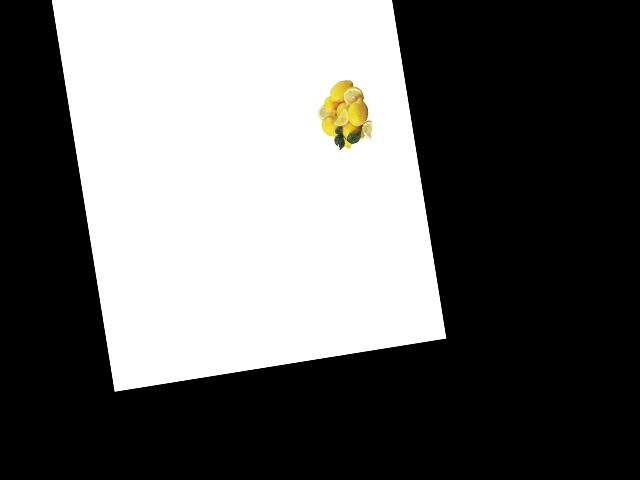lemon: (340, 117, 365, 143)
